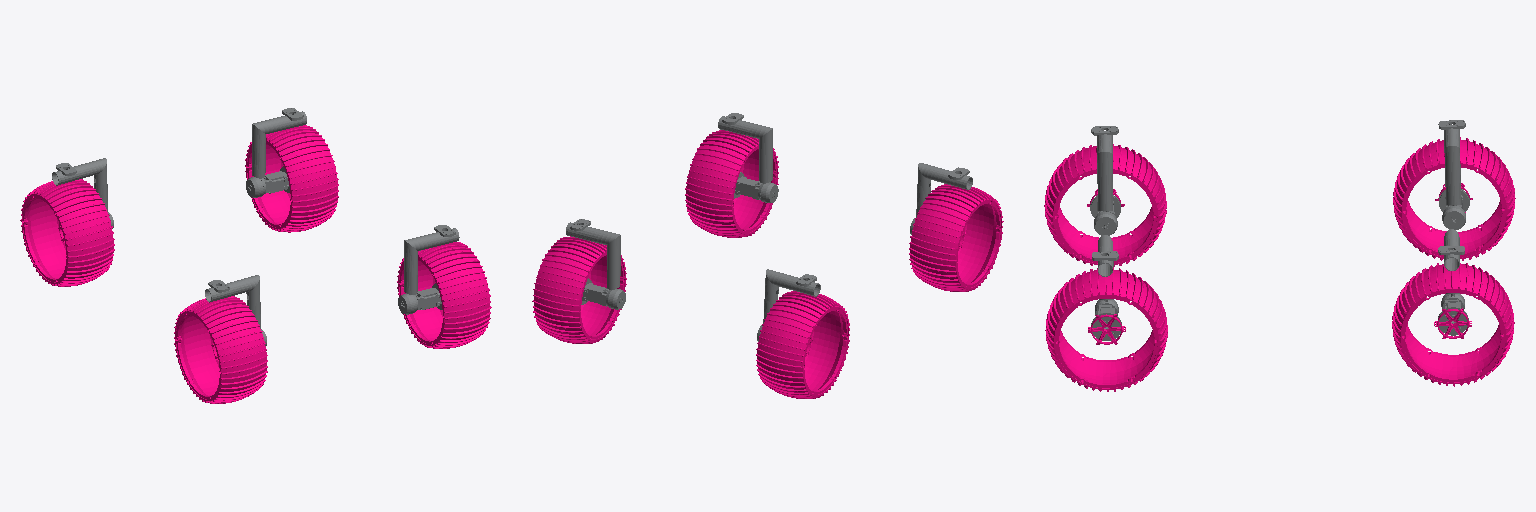
robot.urdf — rover:
<?xml version="1.0" encoding="utf-8"?>
<!-- This URDF was automatically created by SolidWorks to URDF Exporter! Originally created by Stephen Brawner (brawner@gmail.com) 
     Commit Version: 1.6.0-4-g7f85cfe  Build Version: 1.6.7995.38578
     For more information, please see http://wiki.ros.org/sw_urdf_exporter -->
<robot
  name="rover">
  <link
    name="chassis">
    <inertial>
      <origin
        xyz="-4.07696484222422E-05 0.022519682157935 0.208053859288305"
        rpy="0 0 0" />
      <mass
        value="2.6545367242346" />
      <inertia
        ixx="0.0283595874842368"
        ixy="3.9795937321472E-05"
        ixz="2.52963999151071E-06"
        iyy="0.0550270445941382"
        iyz="0.00030862665869005"
        izz="0.0330392069237774" />
    </inertial>
    <visual>
      <origin
        xyz="0 0 0"
        rpy="0 0 0" />
      <geometry>
        <mesh
          filename="package://control/meshes/chassis.STL" />
      </geometry>
      <material
        name="">
        <color
          rgba="1 0.0784 0.576470588 1" />
      </material>
    </visual>
    <collision>
      <origin
        xyz="0 0 0"
        rpy="0 0 0" />
      <geometry>
        <mesh
          filename="package://control/meshes/chassis.STL" />
      </geometry>
    </collision>
  </link>
  <link
    name="left_leg">
    <inertial>
      <origin
        xyz="0.00390384763690586 0.0720956846040544 0.498331979923236"
        rpy="0 0 0" />
      <mass
        value="1.25561043369653" />
      <inertia
        ixx="0.00654422338267773"
        ixy="-0.00027326319409336"
        ixz="-0.000555482097613206"
        iyy="0.00569188177881393"
        iyz="-0.00168373564898548"
        izz="0.00170040442773973" />
    </inertial>
    <visual>
      <origin
        xyz="0 0 0"
        rpy="0 0 0" />
      <geometry>
        <mesh
          filename="package://control/meshes/left_leg.STL" />
      </geometry>
      <material
        name="">
        <color
          rgba="0.533333333 0.545098039 0.552941176 1" />
      </material>
    </visual>
    <collision>
      <origin
        xyz="0 0 0"
        rpy="0 0 0" />
      <geometry>
        <mesh
          filename="package://control/meshes/left_leg.STL" />
      </geometry>
    </collision>
  </link>
  <joint
    name="left_leg_to_chassis"
    type="fixed">
    <origin
      xyz="-0.38386 0.45934 0.042036"
      rpy="-2.8999 -1.4752 -1.5708" />
    <parent
      link="chassis" />
    <child
      link="left_leg" />
    <axis
      xyz="0 0 0" />
  </joint>
  <link
    name="front_left_pivot">
    <inertial>
      <origin
        xyz="-0.0509407651052965 0.13077941108793 0.0509500333461809"
        rpy="0 0 0" />
      <mass
        value="0.373462136464724" />
      <inertia
        ixx="0.000656196625101315"
        ixy="0.000140646150151138"
        ixz="0.000153193809110994"
        iyy="0.000479765011851179"
        iyz="-0.000139836484181228"
        izz="0.00065621231398329" />
    </inertial>
    <visual>
      <origin
        xyz="0 0 0"
        rpy="0 0 0" />
      <geometry>
        <mesh
          filename="package://control/meshes/front_left_pivot.STL" />
      </geometry>
      <material
        name="">
        <color
          rgba="0.533333333 0.545098039 0.552941176 1" /> />
      </material>
    </visual>
    <collision>
      <origin
        xyz="0 0 0"
        rpy="0 0 0" />
      <geometry>
        <mesh
          filename="package://control/meshes/front_left_pivot.STL" />
      </geometry>
    </collision>
  </link>
  <joint
    name="front_left_pivot_to_leg"
    type="revolute">
    <origin
      xyz="-0.077405 -0.001432 0.024083"
      rpy="0.087743 -0.54404 1.5438" />
    <parent
      link="left_leg" />
    <child
      link="front_left_pivot" />
    <axis
      xyz="0 1 0" />
    <limit
      lower="-1.570796327"
      upper="1.570796327"
      effort="1"
      velocity="1" />
  </joint>
  <link
    name="front_left_wheel">
    <inertial>
      <origin
        xyz="-7.90010942331998E-05 -8.38656282198258E-08 -1.81213573036132E-08"
        rpy="0 0 0" />
      <mass
        value="1.22729251567473" />
      <inertia
        ixx="0.02286962568937"
        ixy="-4.31784658527673E-09"
        ixz="5.89330276934634E-09"
        iyy="0.0147660079502287"
        iyz="-4.52024563569672E-09"
        izz="0.0147659923233673" />
    </inertial>
    <visual>
      <origin
        xyz="0 0 0"
        rpy="0 0 0" />
      <geometry>
        <mesh
          filename="package://control/meshes/front_left_wheel.STL" />
      </geometry>
      <material
        name="">
        <color
          rgba="1 0.0784 0.576470588 1" />
      </material>
    </visual>
    <collision>
      <origin
        xyz="0 0 0"
        rpy="0 0 0" />
      <geometry>
        <mesh
          filename="package://control/meshes/front_left_wheel.STL" />
      </geometry>
    </collision>
  </link>
  <joint
    name="front_left_wheel_to_pivot"
    type="continuous">
    <origin
      xyz="0 0.21 0"
      rpy="2.618 0.7854 0" />
    <parent
      link="front_left_pivot" />
    <child
      link="front_left_wheel" />
    <axis
      xyz="1 0 0" />
  </joint>
  <link
    name="back_left_pivot">
    <inertial>
      <origin
        xyz="-0.0509408166867233 0.130779437625862 0.0509500072636369"
        rpy="0 0 0" />
      <mass
        value="0.373462104979822" />
      <inertia
        ixx="0.000656196850300581"
        ixy="0.000140645996248605"
        ixz="0.000153193713279004"
        iyy="0.000479765057344051"
        iyz="-0.000139836701004895"
        izz="0.000656212398774585" />
    </inertial>
    <visual>
      <origin
        xyz="0 0 0"
        rpy="0 0 0" />
      <geometry>
        <mesh
          filename="package://control/meshes/back_left_pivot.STL" />
      </geometry>
      <material
        name="">
        <color
          rgba="0.533333333 0.545098039 0.552941176 1" /> />
      </material>
    </visual>
    <collision>
      <origin
        xyz="0 0 0"
        rpy="0 0 0" />
      <geometry>
        <mesh
          filename="package://control/meshes/back_left_pivot.STL" />
      </geometry>
    </collision>
  </link>
  <joint
    name="back_left_pivot_to_leg"
    type="revolute">
    <origin
      xyz="-0.0093548 0.20893 0.87956"
      rpy="0.10777 -0.54314 1.5292" />
    <parent
      link="left_leg" />
    <child
      link="back_left_pivot" />
    <axis
      xyz="0 1 0" />
    <limit
      lower="-1.570796327"
      upper="1.570796327"
      effort="1"
      velocity="1" />
  </joint>
  <link
    name="back_left_wheel">
    <inertial>
      <origin
        xyz="-7.90010944764497E-05 -8.38537775882386E-08 -1.80987823616974E-08"
        rpy="0 0 0" />
      <mass
        value="1.22729251567558" />
      <inertia
        ixx="0.0228696256902818"
        ixy="-3.82951496475569E-09"
        ixz="6.17978728298194E-09"
        iyy="0.0147660079213766"
        iyz="-4.50491704790529E-09"
        izz="0.0147659923485163" />
    </inertial>
    <visual>
      <origin
        xyz="0 0 0"
        rpy="0 0 0" />
      <geometry>
        <mesh
          filename="package://control/meshes/back_left_wheel.STL" />
      </geometry>
      <material
        name="">
        <color
          rgba="1 0.0784 0.576470588 1" />
      </material>
    </visual>
    <collision>
      <origin
        xyz="0 0 0"
        rpy="0 0 0" />
      <geometry>
        <mesh
          filename="package://control/meshes/back_left_wheel.STL" />
      </geometry>
    </collision>
  </link>
  <joint
    name="back_left_wheel_to_pivot"
    type="continuous">
    <origin
      xyz="0 0.21 0"
      rpy="2.618 0.7854 0" />
    <parent
      link="back_left_pivot" />
    <child
      link="back_left_wheel" />
    <axis
      xyz="1 0 0" />
  </joint>
  <link
    name="right_leg">
    <inertial>
      <origin
        xyz="-0.00226247207990352 0.0536510585884346 0.418418287043508"
        rpy="0 0 0" />
      <mass
        value="1.25561019982895" />
      <inertia
        ixx="0.00660069180651663"
        ixy="-0.000109823095066691"
        ixz="-0.000224910827633487"
        iyy="0.00621829784486593"
        iyz="-0.000686960429080017"
        izz="0.00111752715569272" />
    </inertial>
    <visual>
      <origin
        xyz="0 0 0"
        rpy="0 0 0" />
      <geometry>
        <mesh
          filename="package://control/meshes/right_leg.STL" />
      </geometry>
      <material
        name="">
        <color
          rgba="0.533333333 0.545098039 0.552941176 1" /> />
      </material>
    </visual>
    <collision>
      <origin
        xyz="0 0 0"
        rpy="0 0 0" />
      <geometry>
        <mesh
          filename="package://control/meshes/right_leg.STL" />
      </geometry>
    </collision>
  </link>
  <joint
    name="right_leg_to_chassis"
    type="fixed">
    <origin
      xyz="0.38331 -0.45807 0.025086"
      rpy="-2.8999 -1.5117 1.5708" />
    <parent
      link="chassis" />
    <child
      link="right_leg" />
    <axis
      xyz="0 0 0" />
  </joint>
  <link
    name="front_right_pivot">
    <inertial>
      <origin
        xyz="-0.050941153605312 0.130779305327821 0.0509497328852276"
        rpy="0 0 0" />
      <mass
        value="0.373462300173231" />
      <inertia
        ixx="0.00065619172242815"
        ixy="0.000140644647979565"
        ixz="0.000153193489397229"
        iyy="0.000479764220517861"
        iyz="-0.000139835686905675"
        izz="0.000656207197300882" />
    </inertial>
    <visual>
      <origin
        xyz="0 0 0"
        rpy="0 0 0" />
      <geometry>
        <mesh
          filename="package://control/meshes/front_right_pivot.STL" />
      </geometry>
      <material
        name="">
        <color
          rgba="0.533333333 0.545098039 0.552941176 1" /> />
      </material>
    </visual>
    <collision>
      <origin
        xyz="0 0 0"
        rpy="0 0 0" />
      <geometry>
        <mesh
          filename="package://control/meshes/front_right_pivot.STL" />
      </geometry>
    </collision>
  </link>
  <joint
    name="front_right_pivot_to_leg"
    type="revolute">
    <origin
      xyz="-0.0090629 0.21252 0.87795"
      rpy="0.087635 -0.54127 1.507" />
    <parent
      link="right_leg" />
    <child
      link="front_right_pivot" />
    <axis
      xyz="0 1 0" />
    <limit
      lower="-1.570796327"
      upper="1.570796327"
      effort="1"
      velocity="1" />
  </joint>
  <link
    name="front_right_wheel">
    <inertial>
      <origin
        xyz="-7.90011156019399E-05 -8.29144279346217E-08 -1.92727805936599E-08"
        rpy="0 0 0" />
      <mass
        value="1.22729252965748" />
      <inertia
        ixx="0.0228696257037192"
        ixy="-4.18223690885389E-09"
        ixz="6.0815409301606E-09"
        iyy="0.0147660079444848"
        iyz="-4.52063863426444E-09"
        izz="0.0147659923102889" />
    </inertial>
    <visual>
      <origin
        xyz="0 0 0"
        rpy="0 0 0" />
      <geometry>
        <mesh
          filename="package://control/meshes/front_right_wheel.STL" />
      </geometry>
      <material
        name="">
        <color
          rgba="1 0.0784 0.576470588 1" />
      </material>
    </visual>
    <collision>
      <origin
        xyz="0 0 0"
        rpy="0 0 0" />
      <geometry>
        <mesh
          filename="package://control/meshes/front_right_wheel.STL" />
      </geometry>
    </collision>
  </link>
  <joint
    name="front_right_wheel_to_pivot"
    type="continuous">
    <origin
      xyz="0 0.21 0"
      rpy="2.618 0.7854 0" />
    <parent
      link="front_right_pivot" />
    <child
      link="front_right_wheel" />
    <axis
      xyz="1 0 0" />
  </joint>
  <link
    name="back_right_pivot">
    <inertial>
      <origin
        xyz="-0.0509411508758535 0.130779305337637 0.0509497321900407"
        rpy="0 0 0" />
      <mass
        value="0.373462300161072" />
      <inertia
        ixx="0.000656191723164332"
        ixy="0.000140644648251543"
        ixz="0.000153193489469593"
        iyy="0.000479764220630439"
        iyz="-0.000139835686988376"
        izz="0.000656207198097132" />
    </inertial>
    <visual>
      <origin
        xyz="0 0 0"
        rpy="0 0 0" />
      <geometry>
        <mesh
          filename="package://control/meshes/back_right_pivot.STL" />
      </geometry>
      <material
        name="">
        <color
          rgba="0.533333333 0.545098039 0.552941176 1" /> />
      </material>
    </visual>
    <collision>
      <origin
        xyz="0 0 0"
        rpy="0 0 0" />
      <geometry>
        <mesh
          filename="package://control/meshes/back_right_pivot.STL" />
      </geometry>
    </collision>
  </link>
  <joint
    name="back_right_pivot_to_leg"
    type="revolute">
    <origin
      xyz="-0.077405 0.0014344 0.024083"
      rpy="0.087596 -0.54128 1.507" />
    <parent
      link="right_leg" />
    <child
      link="back_right_pivot" />
    <axis
      xyz="0 1 0" />
    <limit
      lower="-1.570796327"
      upper="1.570796327"
      effort="1"
      velocity="1" />
  </joint>
  <link
    name="back_right_wheel">
    <inertial>
      <origin
        xyz="-7.90011156012183E-05 -8.29144278791105E-08 -1.92727811487714E-08"
        rpy="0 0 0" />
      <mass
        value="1.22729252965745" />
      <inertia
        ixx="0.022869625703719"
        ixy="-4.18223697240404E-09"
        ixz="6.0815409278028E-09"
        iyy="0.0147660079444846"
        iyz="-4.52063853408416E-09"
        izz="0.0147659923102887" />
    </inertial>
    <visual>
      <origin
        xyz="0 0 0"
        rpy="0 0 0" />
      <geometry>
        <mesh
          filename="package://control/meshes/back_right_wheel.STL" />
      </geometry>
      <material
        name="">
        <color
          rgba="1 0.0784 0.576470588 1" />
      </material>
    </visual>
    <collision>
      <origin
        xyz="0 0 0"
        rpy="0 0 0" />
      <geometry>
        <mesh
          filename="package://control/meshes/back_right_wheel.STL" />
      </geometry>
    </collision>
  </link>
  <joint
    name="back_right_wheel_to_pivot"
    type="continuous">
    <origin
      xyz="0 0.21 0"
      rpy="2.618 0.7854 0" />
    <parent
      link="back_right_pivot" />
    <child
      link="back_right_wheel" />
    <axis
      xyz="1 0 0" />
  </joint>
</robot>

--- Render facts (derived) ---
3 views of the same robot in one strip: view 1: azimuth 30°, elevation 25°; view 2: azimuth 150°, elevation 25°; view 3: azimuth 270°, elevation 25° (orthographic).
Robot: rover — 11 links, 10 joints (4 revolute, 4 continuous, 2 fixed); root link chassis; default pose: all joints at 0.
Visible links, largest first — view 1: back_left_wheel, front_left_wheel, back_right_wheel, front_right_wheel, front_right_pivot, back_right_pivot, front_left_pivot, back_left_pivot; view 2: front_left_wheel, back_left_wheel, front_right_wheel, back_right_wheel, back_right_pivot, front_right_pivot, front_left_pivot, back_left_pivot; view 3: back_right_wheel, front_right_wheel, front_left_wheel, back_left_wheel, back_left_pivot, front_left_pivot, front_right_pivot, back_right_pivot.
Link boxes in pixels (x1=…): back_left_wheel: x1=174, y1=296, x2=267, y2=403; front_left_wheel: x1=20, y1=179, x2=114, y2=286; back_right_wheel: x1=397, y1=242, x2=491, y2=348; front_right_wheel: x1=245, y1=125, x2=338, y2=232; front_right_pivot: x1=246, y1=108, x2=306, y2=197; back_right_pivot: x1=398, y1=225, x2=459, y2=314; front_left_pivot: x1=52, y1=158, x2=113, y2=228; back_left_pivot: x1=205, y1=275, x2=266, y2=345; front_left_wheel: x1=756, y1=291, x2=849, y2=398; back_left_wheel: x1=909, y1=184, x2=1003, y2=291; front_right_wheel: x1=532, y1=236, x2=626, y2=343; back_right_wheel: x1=685, y1=130, x2=778, y2=237; back_right_pivot: x1=718, y1=113, x2=778, y2=202; front_right_pivot: x1=566, y1=219, x2=625, y2=309; front_left_pivot: x1=757, y1=269, x2=820, y2=341; back_left_pivot: x1=910, y1=163, x2=972, y2=234; back_right_wheel: x1=1045, y1=267, x2=1167, y2=391; front_right_wheel: x1=1392, y1=263, x2=1514, y2=386; front_left_wheel: x1=1393, y1=137, x2=1515, y2=260; back_left_wheel: x1=1044, y1=144, x2=1166, y2=266; back_left_pivot: x1=1090, y1=126, x2=1120, y2=235; front_left_pivot: x1=1438, y1=120, x2=1469, y2=229; front_right_pivot: x1=1438, y1=229, x2=1468, y2=335; back_right_pivot: x1=1091, y1=235, x2=1121, y2=340.
Size in the robot's own frame: 0.9077 by 1.2 by 0.3838 metres.
8 mesh visuals loaded from 11 distinct referenced files (8 binary STL); not drawn: 3 (reference not matched to a file when rendering).
